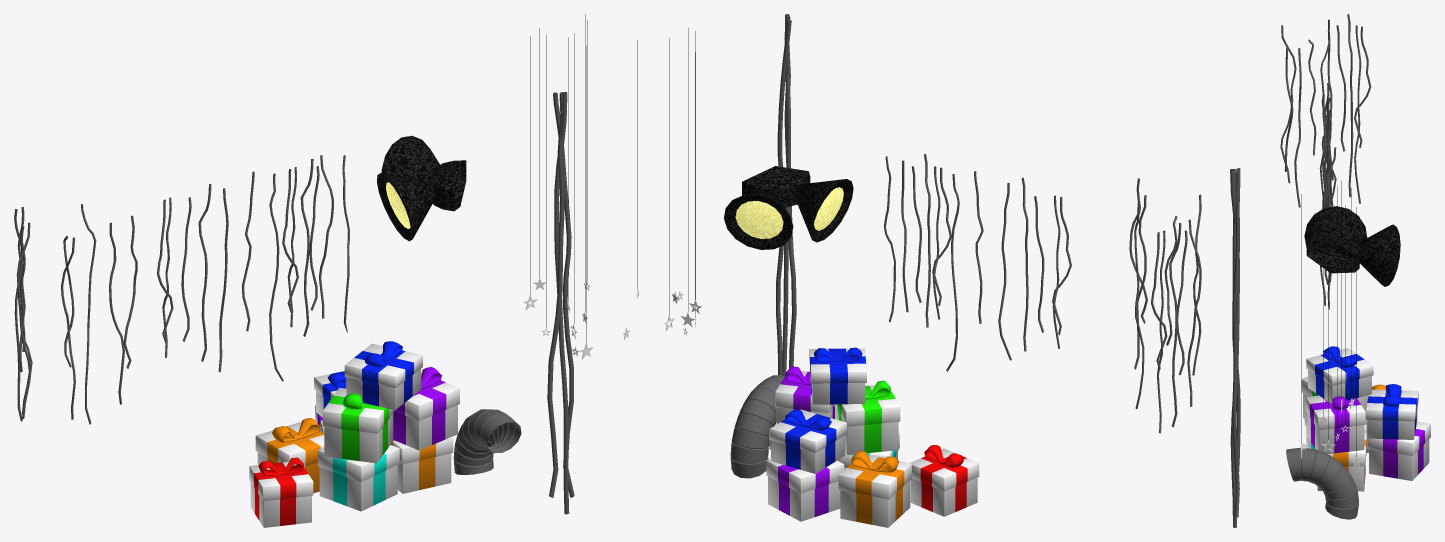
The model's file is PropsPack.fbx.
3 renders of one model, left to right at view 1: azimuth 30°, elevation 25°; view 2: azimuth 150°, elevation 25°; view 3: azimuth 270°, elevation 25°, orthographic. The views are drawn at different scales.
Visible parts, largest first — view 1: PresentBunch, Small Cables Wall, FloodLight_Corner, Large Cables, Small Cables, Pipe_ChicaHall, Star Bunch; view 2: PresentBunch, FloodLight_Corner, Small Cables Wall, Small Cables, Large Cables, Pipe_ChicaHall, Star Bunch; view 3: PresentBunch, FloodLight_Corner, Small Cables, Pipe_ChicaHall, Large Cables, Star Bunch, Small Cables Wall.
Part boxes in pixels (x1=…): PresentBunch: x1=249, y1=341, x2=459, y2=527; Small Cables Wall: x1=157, y1=155, x2=349, y2=381; FloodLight_Corner: x1=377, y1=135, x2=466, y2=241; Large Cables: x1=547, y1=92, x2=574, y2=514; Small Cables: x1=14, y1=204, x2=137, y2=424; Pipe_ChicaHall: x1=453, y1=409, x2=521, y2=474; Star Bunch: x1=523, y1=14, x2=593, y2=359; PresentBunch: x1=766, y1=347, x2=979, y2=527; FloodLight_Corner: x1=724, y1=166, x2=853, y2=249; Small Cables Wall: x1=884, y1=154, x2=1071, y2=371; Small Cables: x1=1129, y1=178, x2=1201, y2=433; Large Cables: x1=776, y1=14, x2=796, y2=376; Pipe_ChicaHall: x1=730, y1=375, x2=784, y2=478; Star Bunch: x1=622, y1=28, x2=702, y2=339; PresentBunch: x1=1301, y1=346, x2=1430, y2=491; FloodLight_Corner: x1=1304, y1=206, x2=1400, y2=286; Small Cables: x1=1280, y1=14, x2=1371, y2=207; Pipe_ChicaHall: x1=1286, y1=448, x2=1358, y2=519; Large Cables: x1=1230, y1=168, x2=1240, y2=527; Star Bunch: x1=1300, y1=181, x2=1362, y2=466; Small Cables Wall: x1=1320, y1=83, x2=1336, y2=309.
Bounding box in the file's own units: 548 × 380 × 193.
